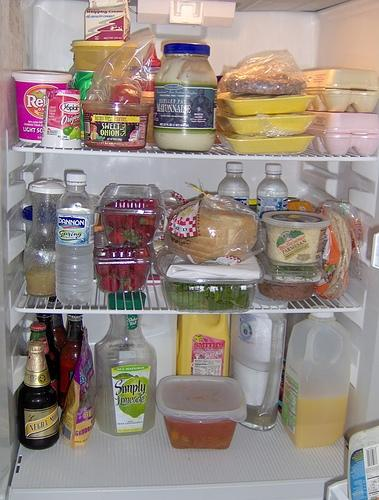strawberry: (130, 224, 156, 247), (103, 214, 127, 230), (128, 272, 146, 290), (107, 227, 126, 244), (110, 264, 130, 278), (94, 264, 112, 279), (132, 263, 151, 276), (124, 216, 140, 230), (133, 245, 150, 258), (107, 277, 120, 292), (116, 249, 134, 258), (94, 248, 110, 258), (115, 199, 130, 208), (140, 217, 154, 226), (136, 199, 145, 209), (130, 200, 136, 209)
